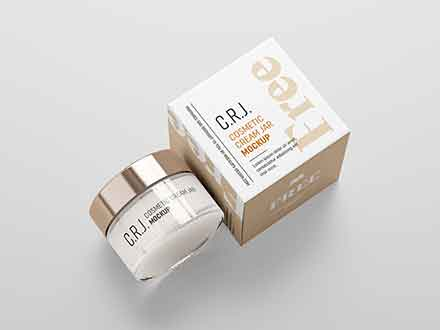Medicine: (172, 34, 355, 239), (86, 142, 220, 301)
